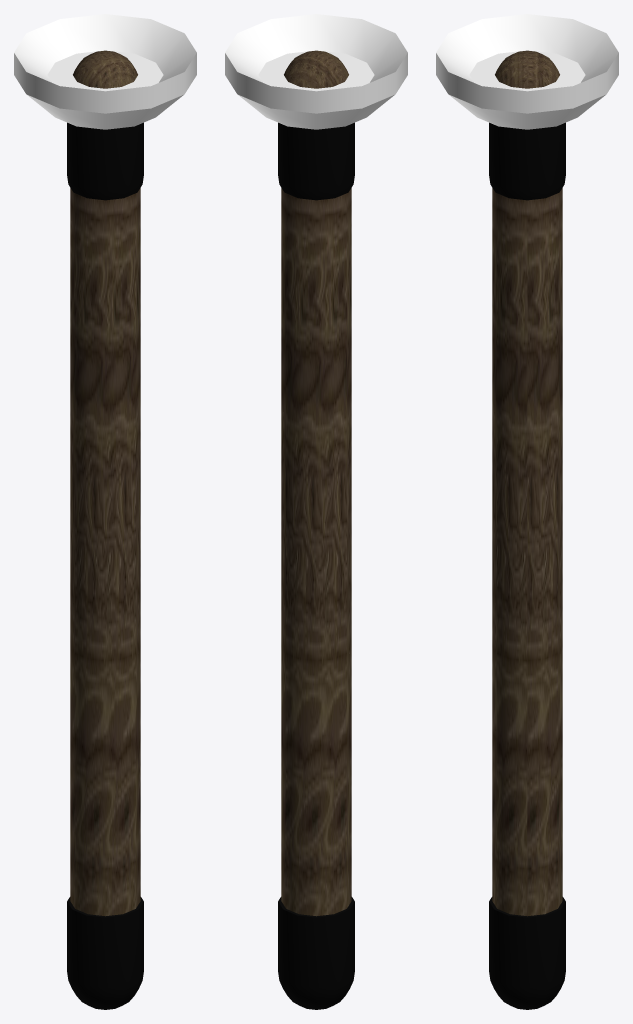
File: Fackel.FBX
3 views of the same model, side by side, from view 1: azimuth 30°, elevation 25°; view 2: azimuth 150°, elevation 25°; view 3: azimuth 270°, elevation 25° (orthographic).
Parts seen in each view (by area): view 1: Capsule001; view 2: Capsule001; view 3: Capsule001.
Part boxes in pixels (left/top/right/bottom): Capsule001: left=14, top=14, right=196, bottom=1009; Capsule001: left=225, top=14, right=407, bottom=1009; Capsule001: left=436, top=14, right=618, bottom=1009.
Size of the model in its own units: 3.08 by 17.74 by 3.08.
2 materials, 1 textured.
